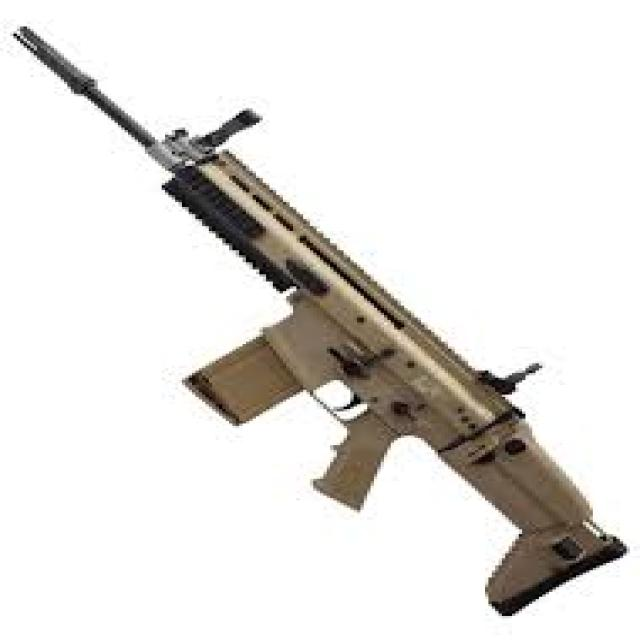Gun: (0, 18, 640, 618)
